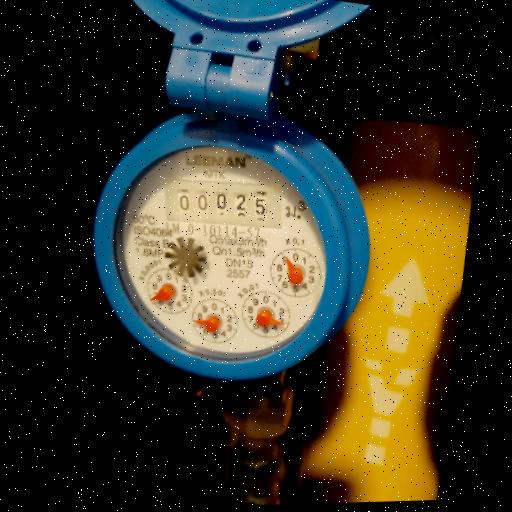0: (191, 188, 213, 216), (210, 189, 232, 217), (174, 187, 195, 214)
2: (229, 189, 251, 219)
5: (248, 188, 273, 224)
border_water_meter_number: (154, 164, 289, 243)
